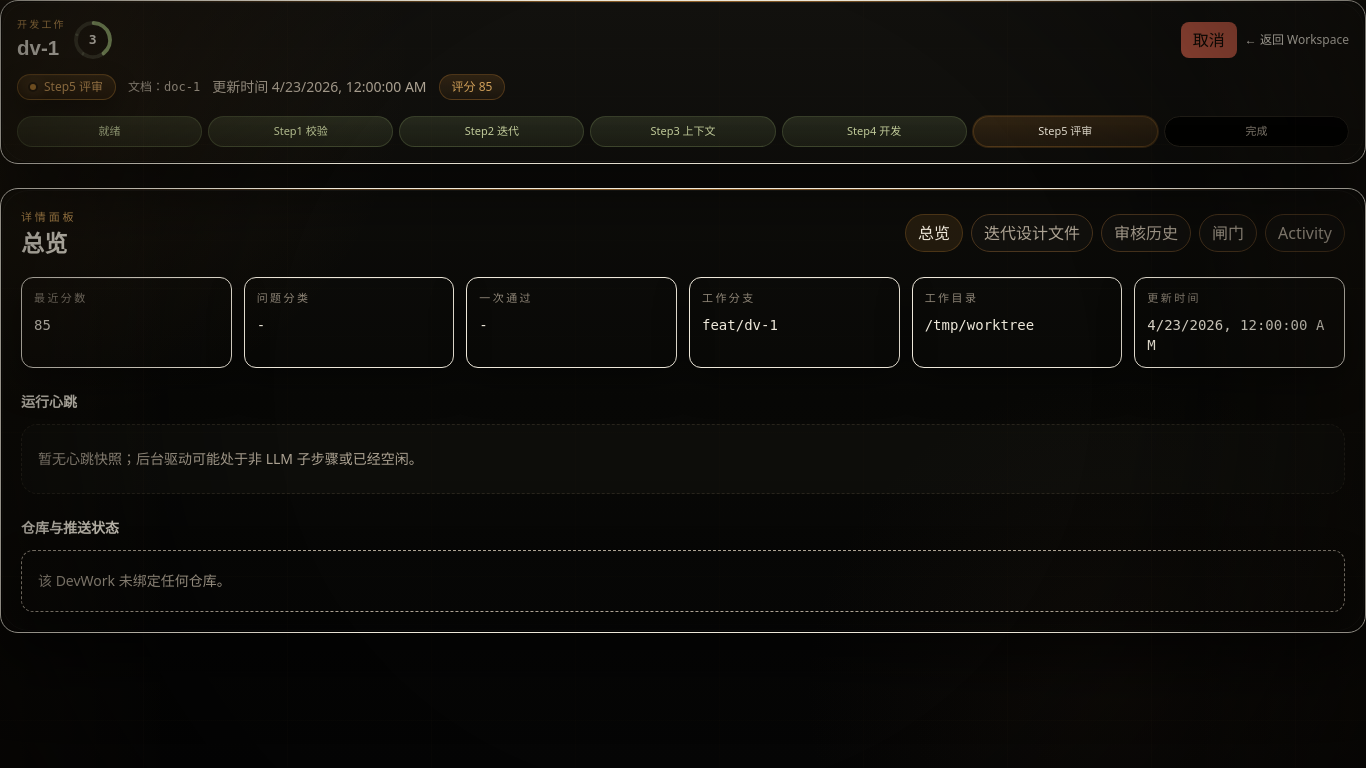
Scenario: DevWorkPage › renders approve and reject buttons when exit gate is waiting
The width and height of the screenshot is (1366, 768).
Check: the picture named "DevWork 实际执行轮次 3/5" is shown, box top-left (72, 19), bottom-right (114, 61)
Switch to the gate tab.
Click the tab "闸门".
click(1228, 233)  # box top-left (1199, 214), bottom-right (1257, 252)
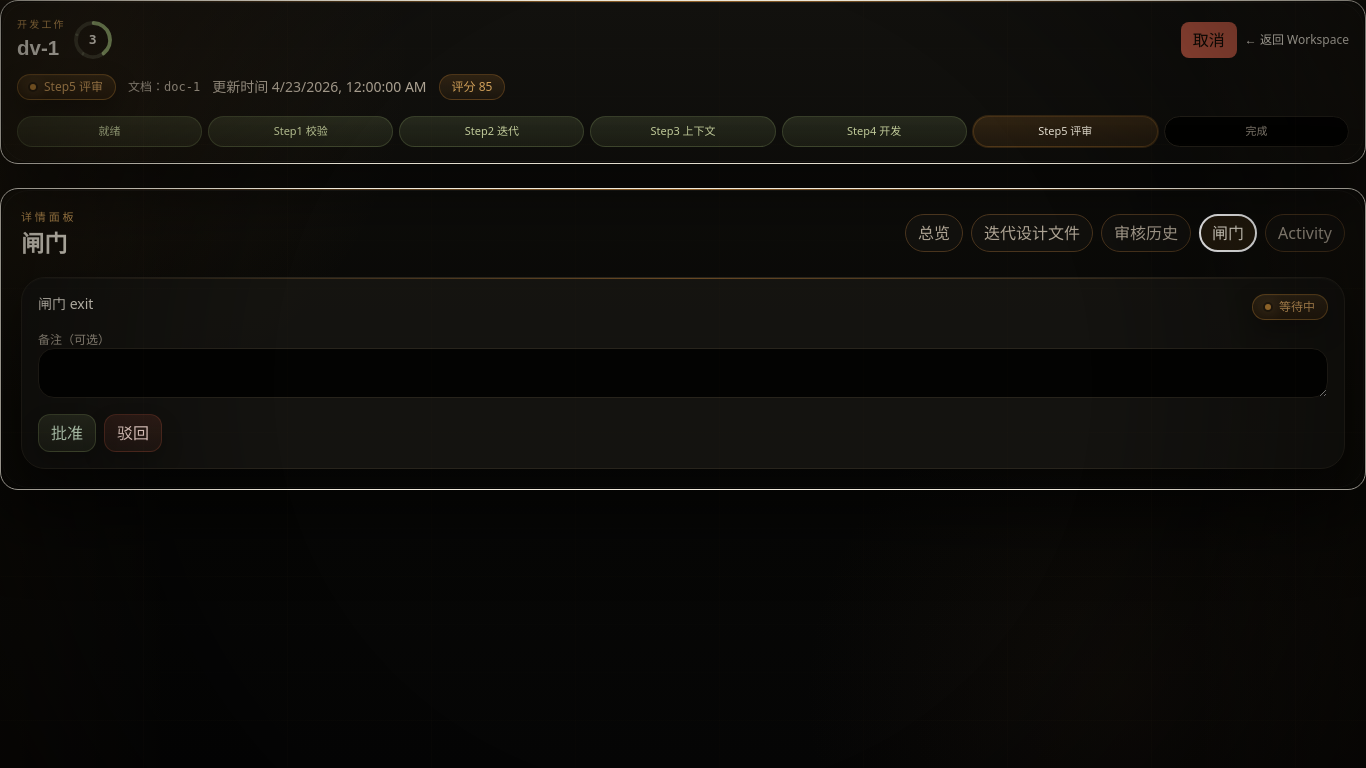
Check: the button "批准" is enabled, box top-left (38, 414), bottom-right (96, 452)
Check: the button "驳回" is enabled, box top-left (104, 414), bottom-right (162, 452)
